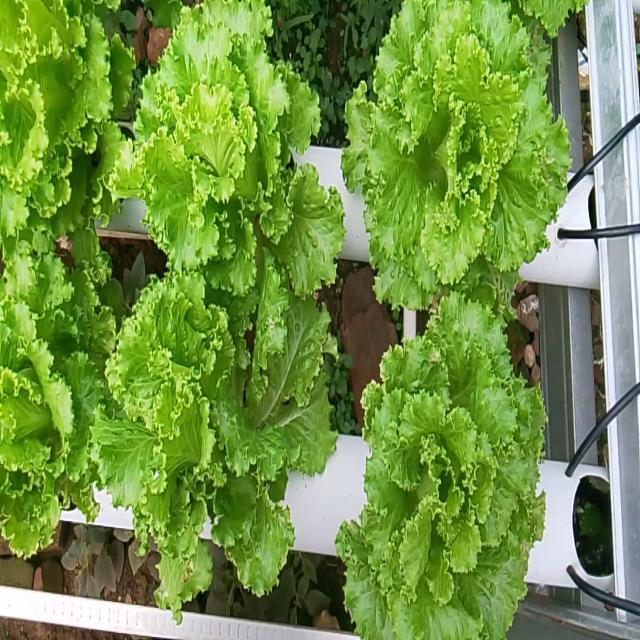Mature: (95, 276, 337, 612), (341, 1, 580, 311), (336, 292, 546, 640), (123, 1, 344, 320), (0, 0, 135, 260), (0, 256, 115, 559)
